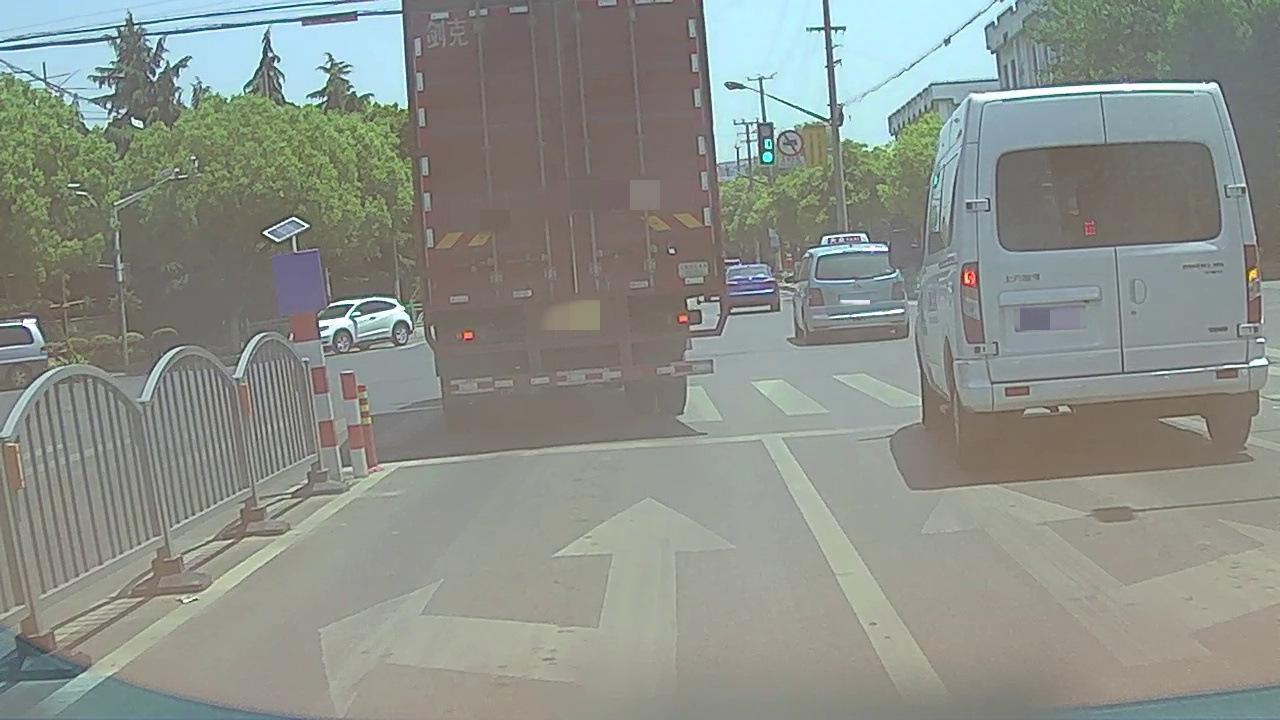traffic_light: (758, 124, 774, 165)
